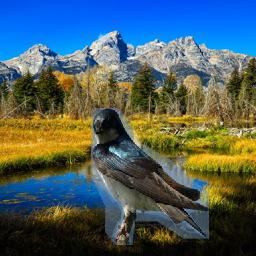Swallow: (91, 109, 209, 246)
